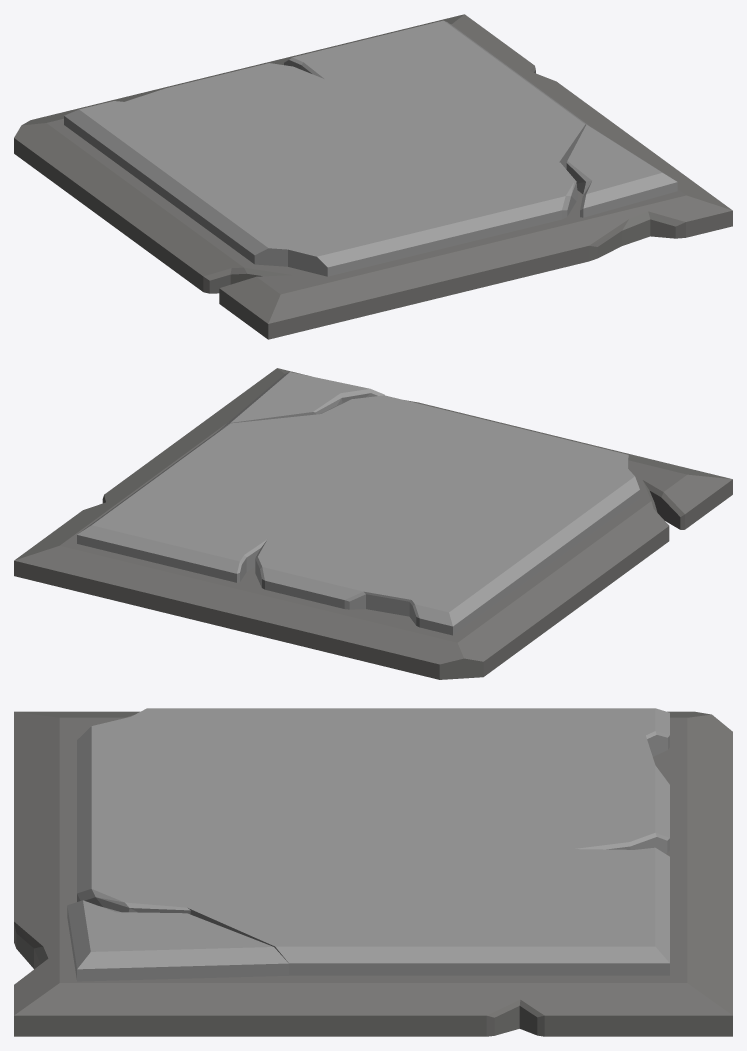
Rendered from plate_12.fbx.
The picture shows the model from 3 angles, top to bottom: view 1: azimuth 30°, elevation 25°; view 2: azimuth 150°, elevation 25°; view 3: azimuth 270°, elevation 25°; orthographic projection. The views are drawn at different scales.
Visible parts, largest first — view 1: plate_12, plate_base_12; view 2: plate_12, plate_base_12; view 3: plate_12, plate_base_12.
Boxes of the visible parts, x1,y1,x2,y2 form: plate_12: (64,20,677,276); plate_base_12: (14,14,732,339); plate_12: (77,372,639,635); plate_base_12: (14,368,732,679); plate_12: (67,708,669,981); plate_base_12: (14,711,732,1036).
Bounding box in the file's own units: 1.35 × 0.1193 × 1.35.
